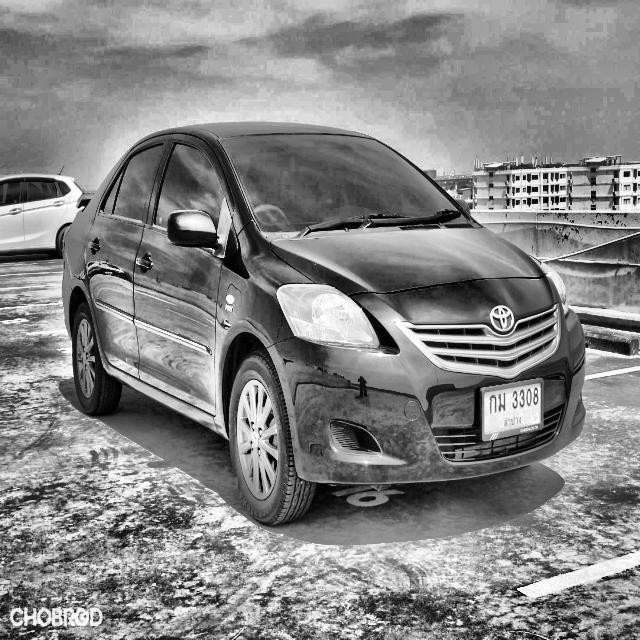license-plate: (480, 377, 548, 443)
